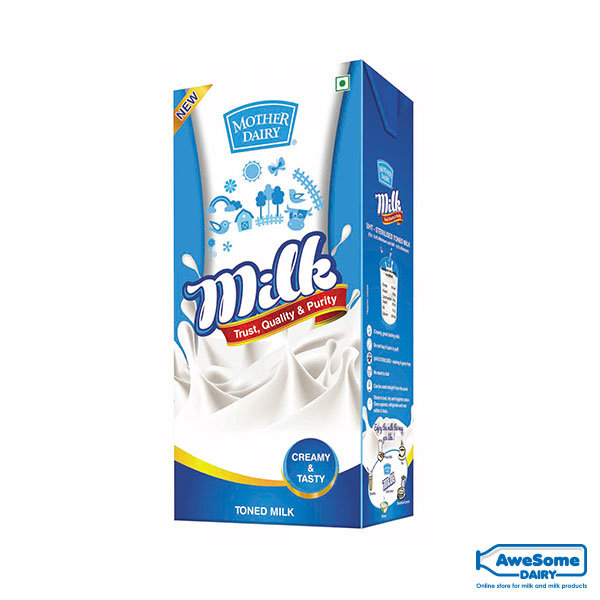Mother_Dairy: (211, 96, 310, 156)
